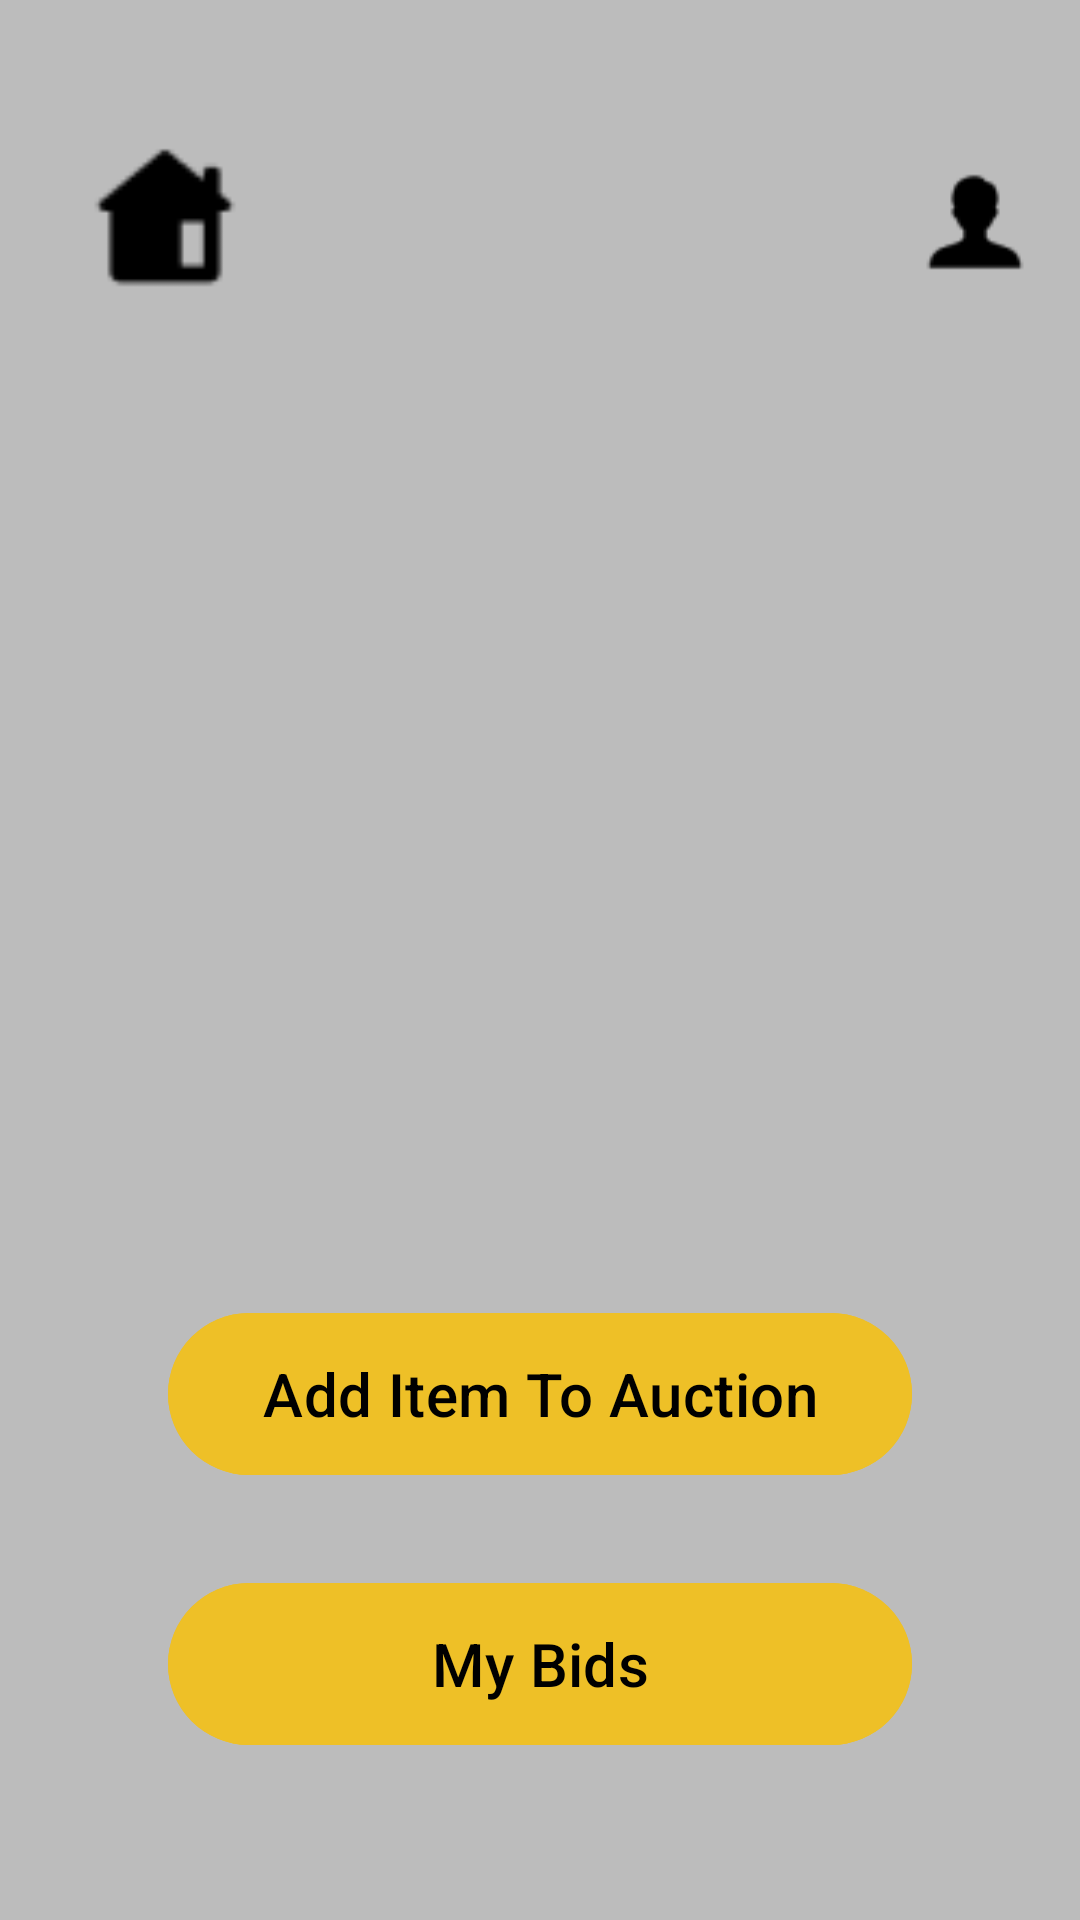

Screen size 1080 x 1920. Icon name, then its center in pixels as (x=x, y=y):
home: (x=165, y=217)
user male: (x=975, y=222)
